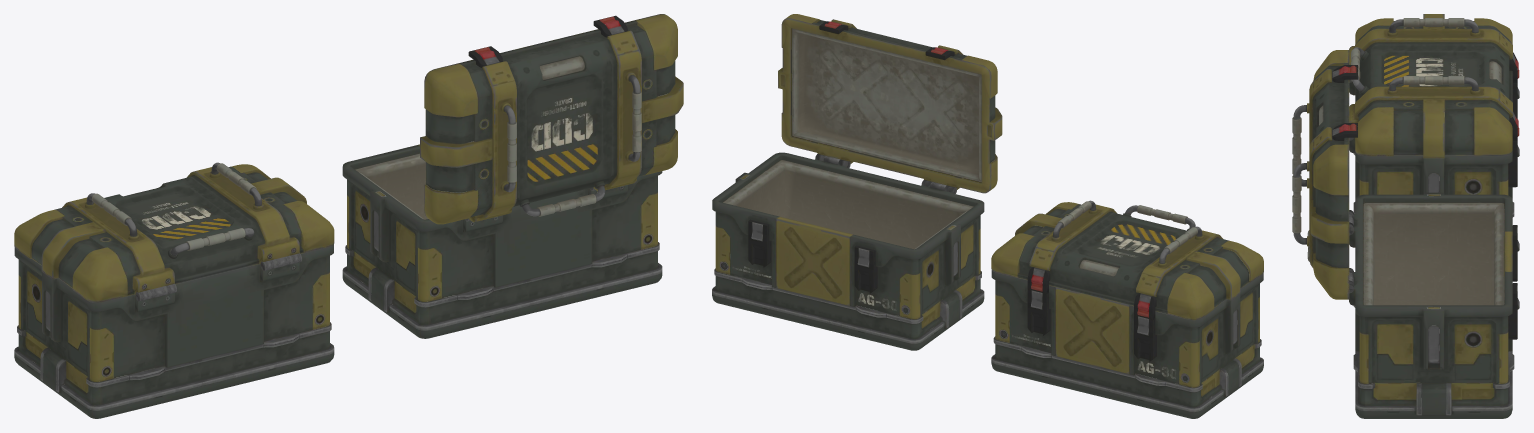
Rendered from ammo-crate.glb.
The picture shows the model from 3 angles, left to right: view 1: azimuth 30°, elevation 25°; view 2: azimuth 150°, elevation 25°; view 3: azimuth 270°, elevation 25°; orthographic projection. The views are drawn at different scales.
Parts seen in each view (by area): view 1: CrateBase_Low.001, CrateLid_Low, CrateBase_Low; view 2: CrateBase_Low.001, CrateBase_Low, CrateLid_Low; view 3: CrateBase_Low, CrateBase_Low.001, CrateLid_Low.
Boxes of the visible parts, x1,y1,x2,y2 form: CrateBase_Low.001: (14,162,334,418); CrateLid_Low: (420,14,683,224); CrateBase_Low: (342,144,662,338); CrateBase_Low.001: (991,200,1263,418); CrateBase_Low: (712,152,984,350); CrateLid_Low: (778,14,1002,193); CrateBase_Low: (1349,192,1519,418); CrateBase_Low.001: (1349,14,1519,217); CrateLid_Low: (1292,50,1357,299).
Bounding box in the file's own units: 2.38 × 1.1 × 0.8468.
Materials: 4 (4 with a texture image).
